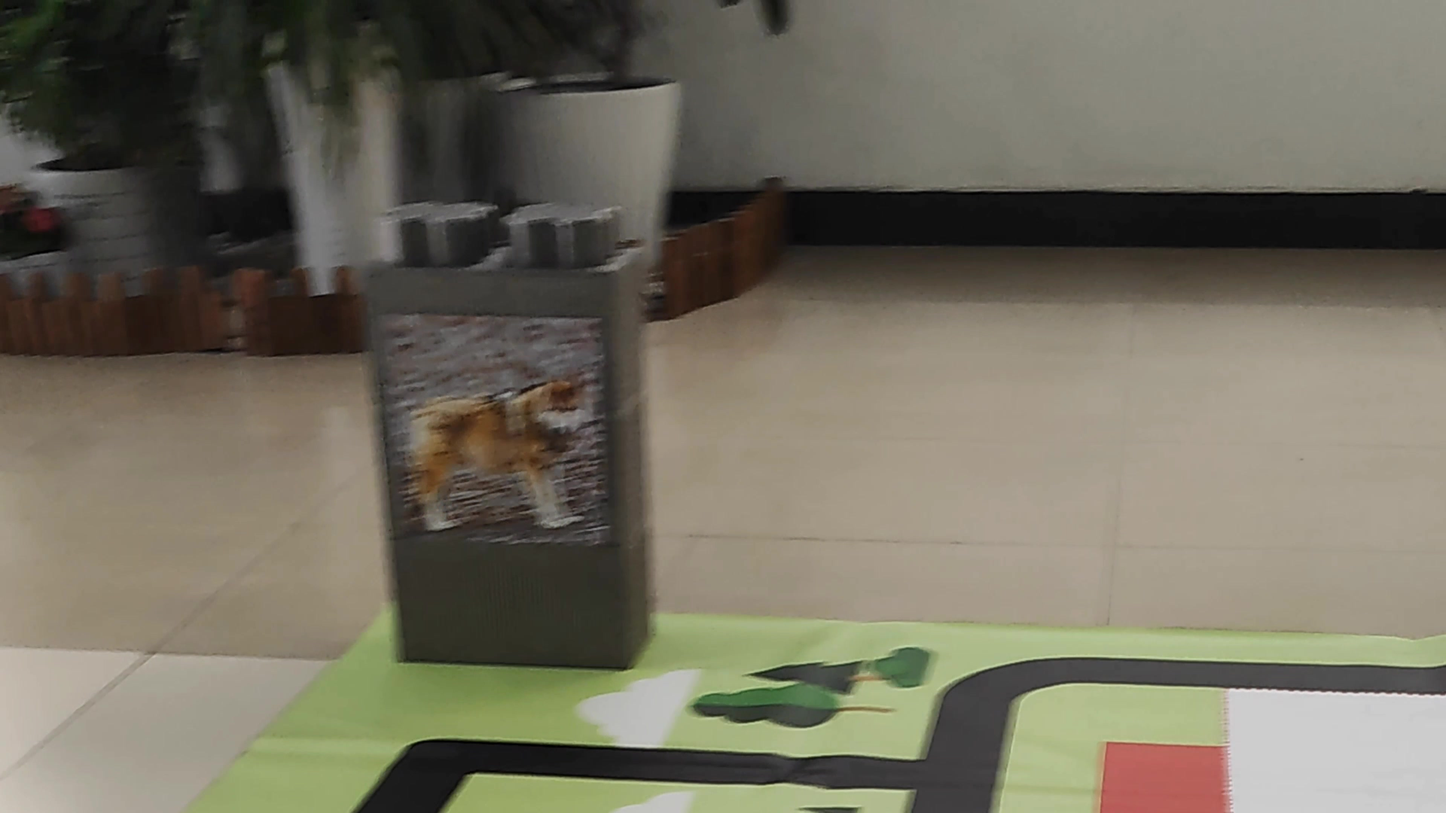wolf: (393, 355, 603, 541)
